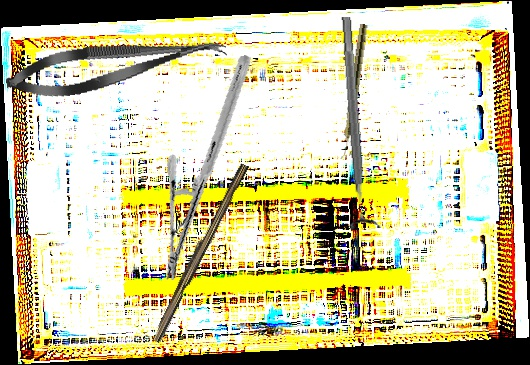Fixation Ring: (329, 15, 382, 231)
Handpiece: (339, 23, 368, 161)
Micro Scissor: (2, 23, 230, 106)
Needle Holder: (128, 54, 287, 282)
Scalpel Handle: (148, 160, 250, 345)
